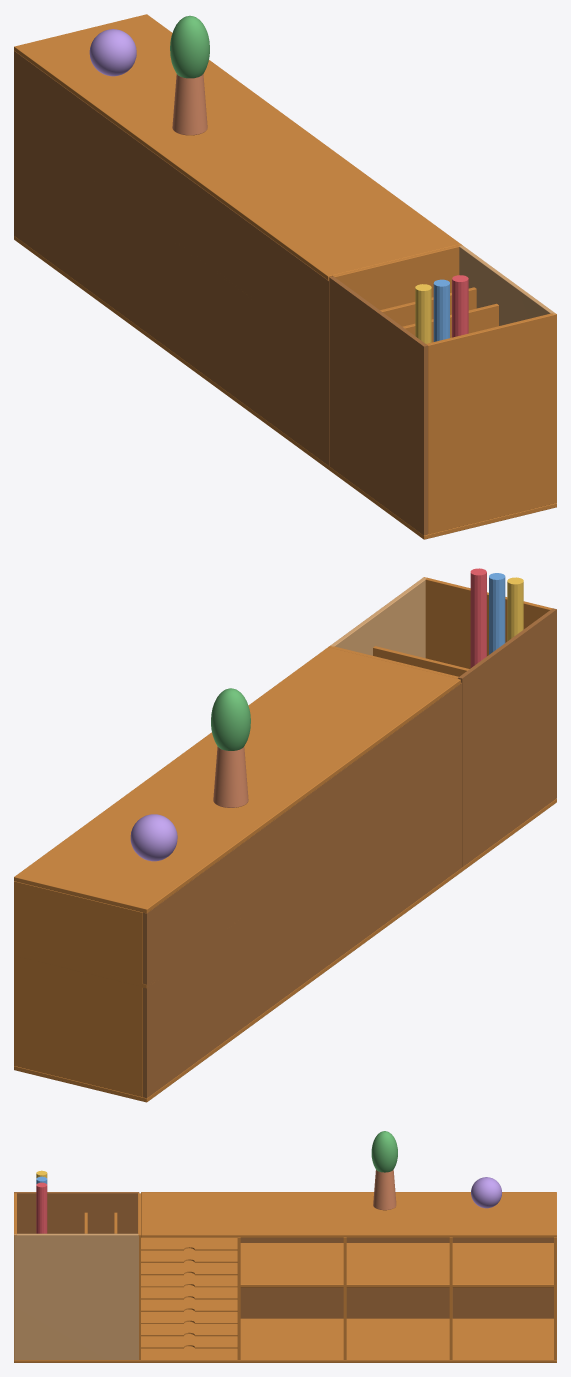
Rendered from cabinet_left.glb.
3 renders of one model, top to bottom at view 1: azimuth 30°, elevation 25°; view 2: azimuth 150°, elevation 25°; view 3: azimuth 270°, elevation 25°, orthographic. The views are drawn at different scales.
Parts seen in each view (by area): view 1: LCab_Back3.001, LCab_Board20.001, LCab_Panel25.001, LCab_Back4.001, LCab_Panel21.001, LCab_Front22.001, LCab_Board2.001, CabVaseLeaf.001, CabVase.001, CabBall.001, PaperRoll_1.001, PaperRoll_2.001 (+3 smaller); view 2: LCab_Back3.001, LCab_Board20.001, LCab_Panel1.001, LCab_Back4.001, LCab_Panel25.001, LCab_Front22.001, LCab_Board2.001, CabVaseLeaf.001, CabVase.001, CabBall.001, PaperRoll_2.001, PaperRoll_1.001 (+2 smaller); view 3: LCab_Board20.001, LCab_Front22.001, LCab_Board2.001, LCab_Back3.001, LCab_Board7.001, LCab_Board9.001, LCab_Board5.001, LCab_Back4.001, LCab_Tray19.001, LCab_Tray11.001, LCab_Tray14.001, LCab_Tray18.001 (+14 smaller).
Boxes of the visible parts, x1,y1,x2,y2 form: LCab_Back3.001: [14, 51, 329, 465]; LCab_Board20.001: [14, 14, 460, 280]; LCab_Panel25.001: [426, 313, 556, 534]; LCab_Back4.001: [329, 276, 427, 535]; LCab_Panel21.001: [332, 244, 462, 309]; LCab_Front22.001: [459, 245, 555, 325]; LCab_Board2.001: [14, 236, 556, 539]; CabVaseLeaf.001: [170, 15, 209, 78]; CabVase.001: [172, 74, 207, 135]; CabBall.001: [89, 29, 136, 76]; PaperRoll_1.001: [433, 279, 449, 341]; PaperRoll_2.001: [452, 275, 468, 337]; LCab_Back3.001: [143, 682, 461, 1098]; LCab_Board20.001: [14, 647, 460, 913]; LCab_Panel1.001: [14, 881, 142, 1097]; LCab_Back4.001: [458, 608, 556, 867]; LCab_Panel25.001: [424, 577, 552, 668]; LCab_Front22.001: [330, 577, 426, 658]; LCab_Board2.001: [14, 798, 556, 1102]; CabVaseLeaf.001: [211, 688, 250, 750]; CabVase.001: [213, 746, 248, 807]; CabBall.001: [130, 814, 177, 861]; PaperRoll_2.001: [470, 568, 486, 667]; PaperRoll_1.001: [489, 573, 505, 654]; LCab_Board20.001: [141, 1192, 556, 1237]; LCab_Front22.001: [14, 1233, 138, 1359]; LCab_Board2.001: [14, 1318, 556, 1362]; LCab_Back3.001: [240, 1237, 553, 1318]; LCab_Board7.001: [345, 1243, 450, 1287]; LCab_Board9.001: [239, 1243, 344, 1287]; LCab_Board5.001: [451, 1243, 556, 1287]; LCab_Back4.001: [14, 1192, 139, 1233]; LCab_Tray19.001: [141, 1237, 237, 1250]; LCab_Tray11.001: [141, 1334, 237, 1348]; LCab_Tray14.001: [141, 1297, 237, 1311]; LCab_Tray18.001: [141, 1248, 237, 1262].
Size of the model in its own units: 1.3 by 2.86 by 6.94.
